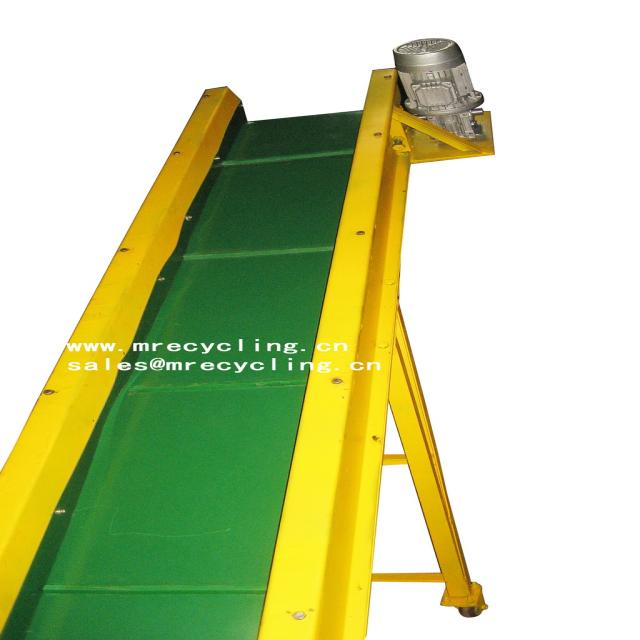conveyor: (0, 34, 530, 640)
